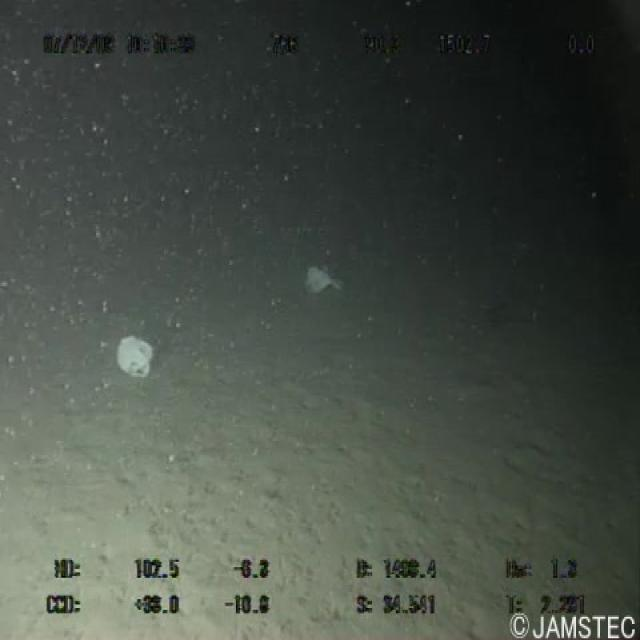plastic: (112, 327, 155, 386), (300, 256, 351, 304)
